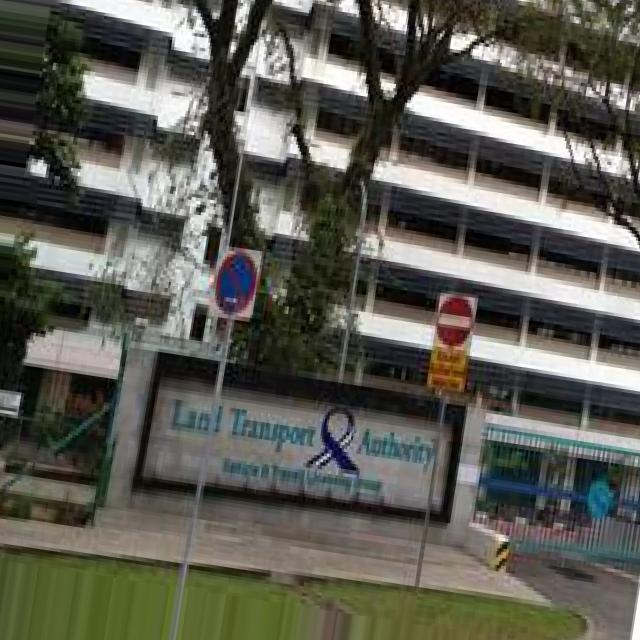forb_stopping: (215, 250, 256, 313)
